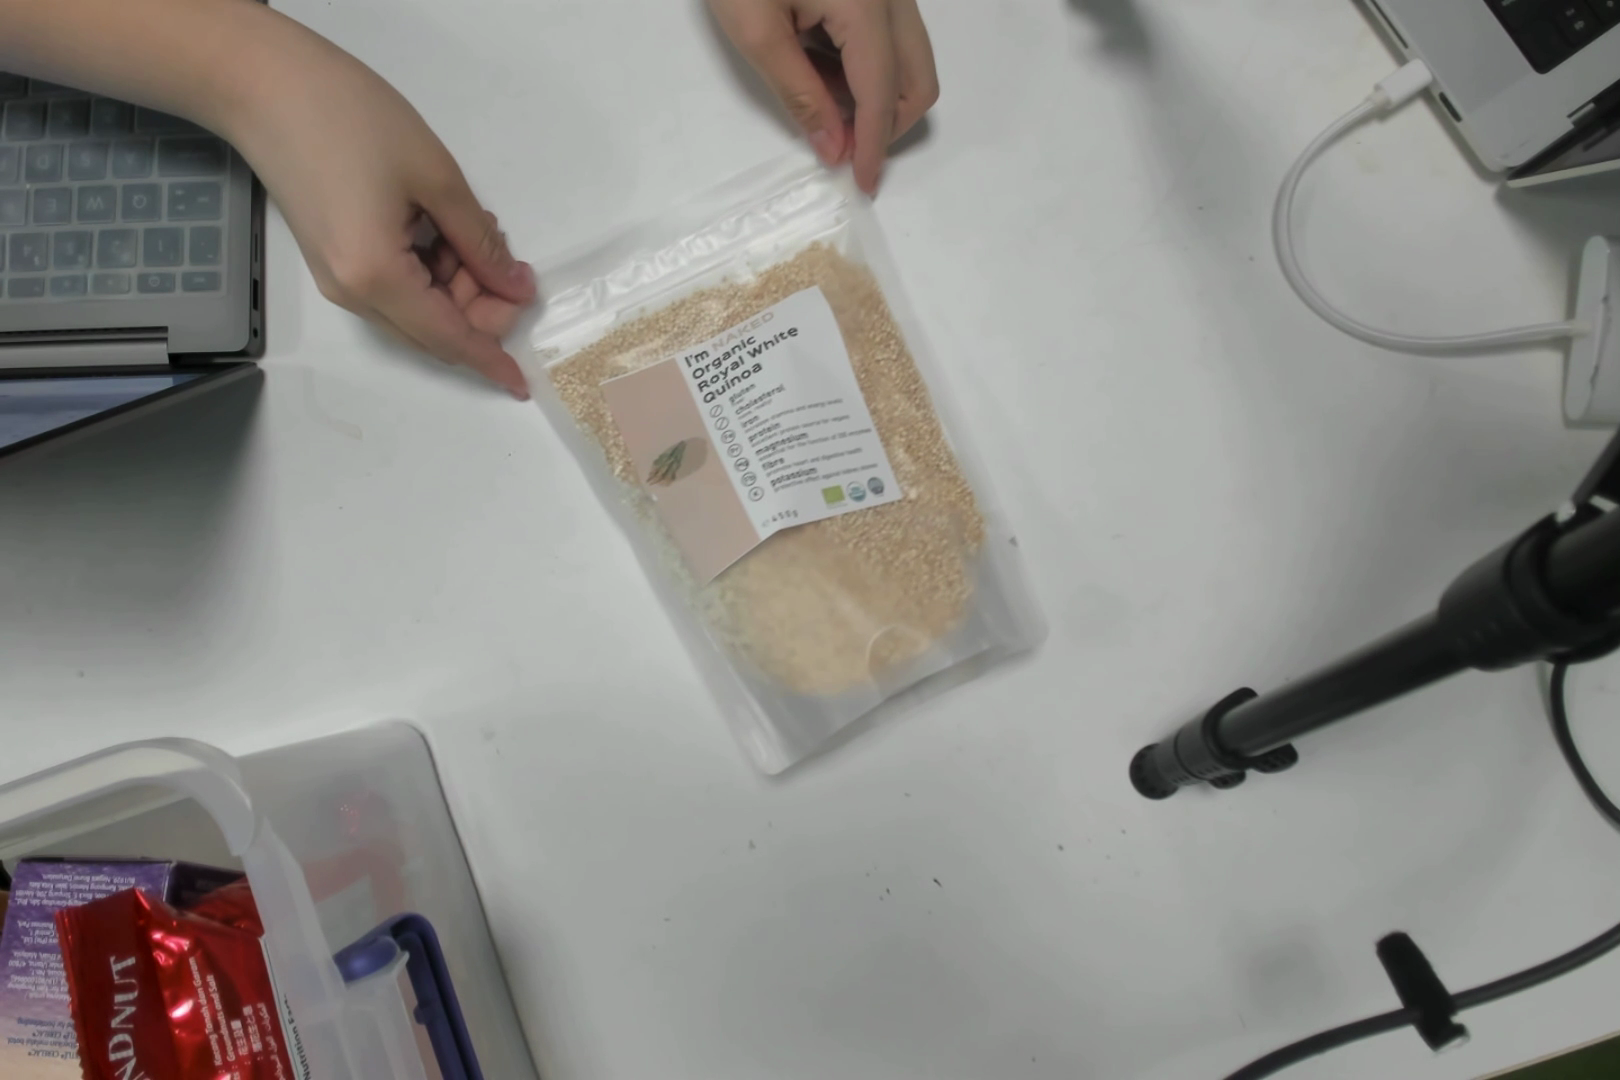Rice(brown-others)_400-499g_Halal_NonHealthy: (624, 235, 1015, 736)
